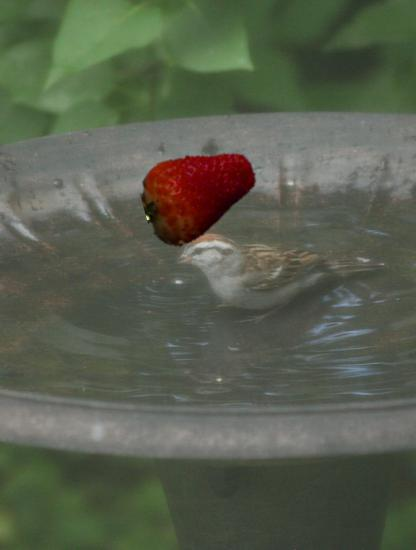Strawberry: (143, 138, 261, 256)
